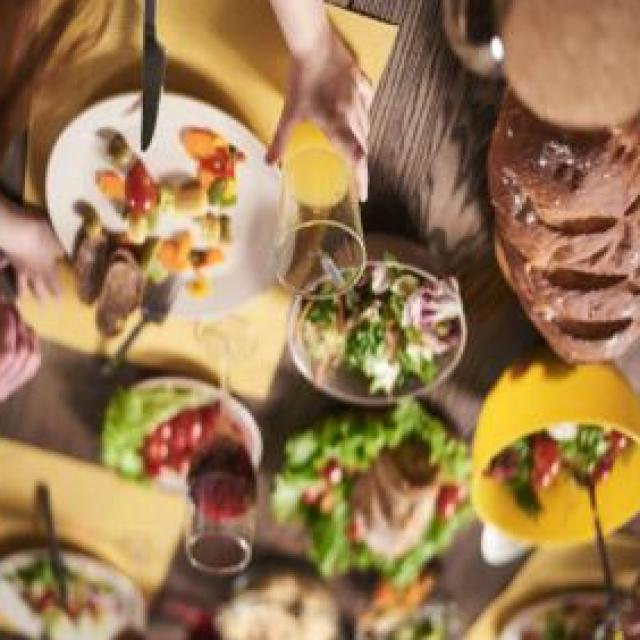knife: (113, 0, 175, 159)
